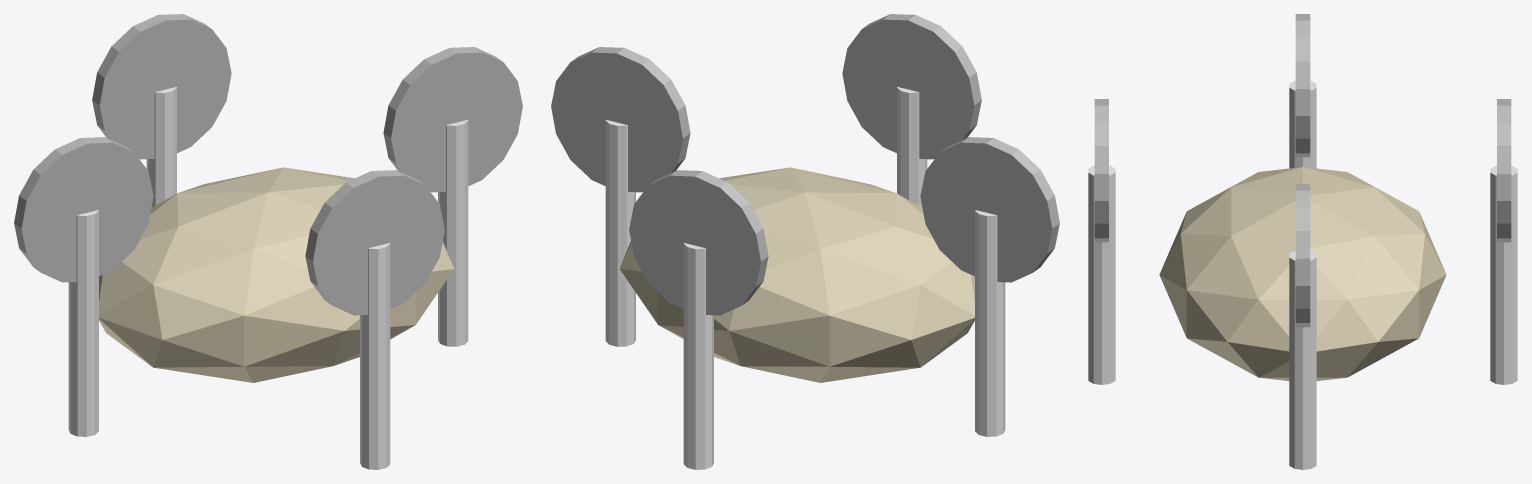
Rendered from glint-owl.glb.
3 views of the same model, side by side, from view 1: azimuth 30°, elevation 25°; view 2: azimuth 150°, elevation 25°; view 3: azimuth 270°, elevation 25° (orthographic). The views are drawn at different scales.
Visible parts, largest first — view 1: world; view 2: world; view 3: world.
Boxes of the visible parts, x1,y1,x2,y2 form: world: (14,14,522,469); world: (551,14,1059,469); world: (1088,14,1517,469).
Size of the model in its own units: 2 by 1.11 by 1.57.
1 material, 1 textured.
